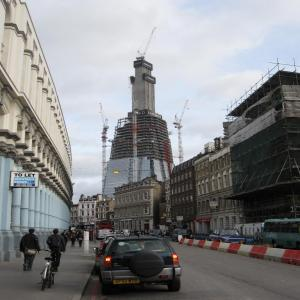Vehicle-registration-plate: (113, 279, 141, 287)
